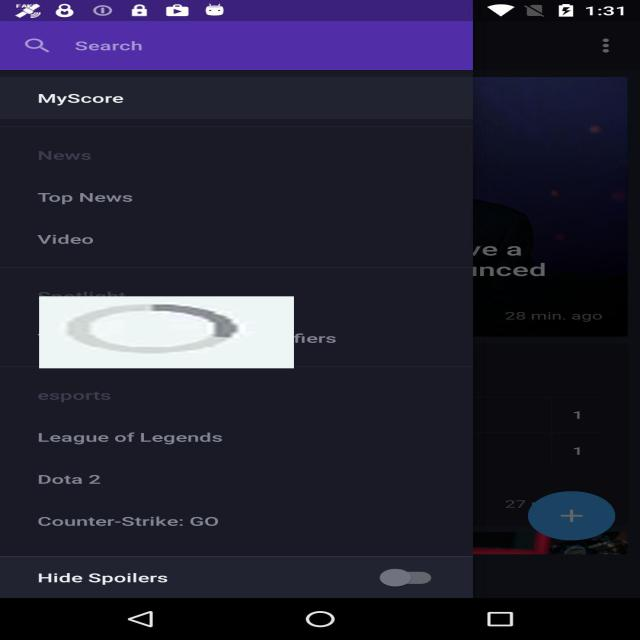misdirection: (39, 296, 294, 368)
